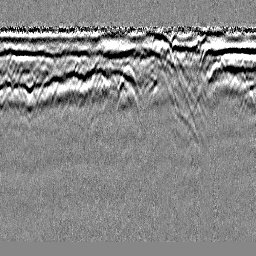cavity: (116, 62, 141, 93)
